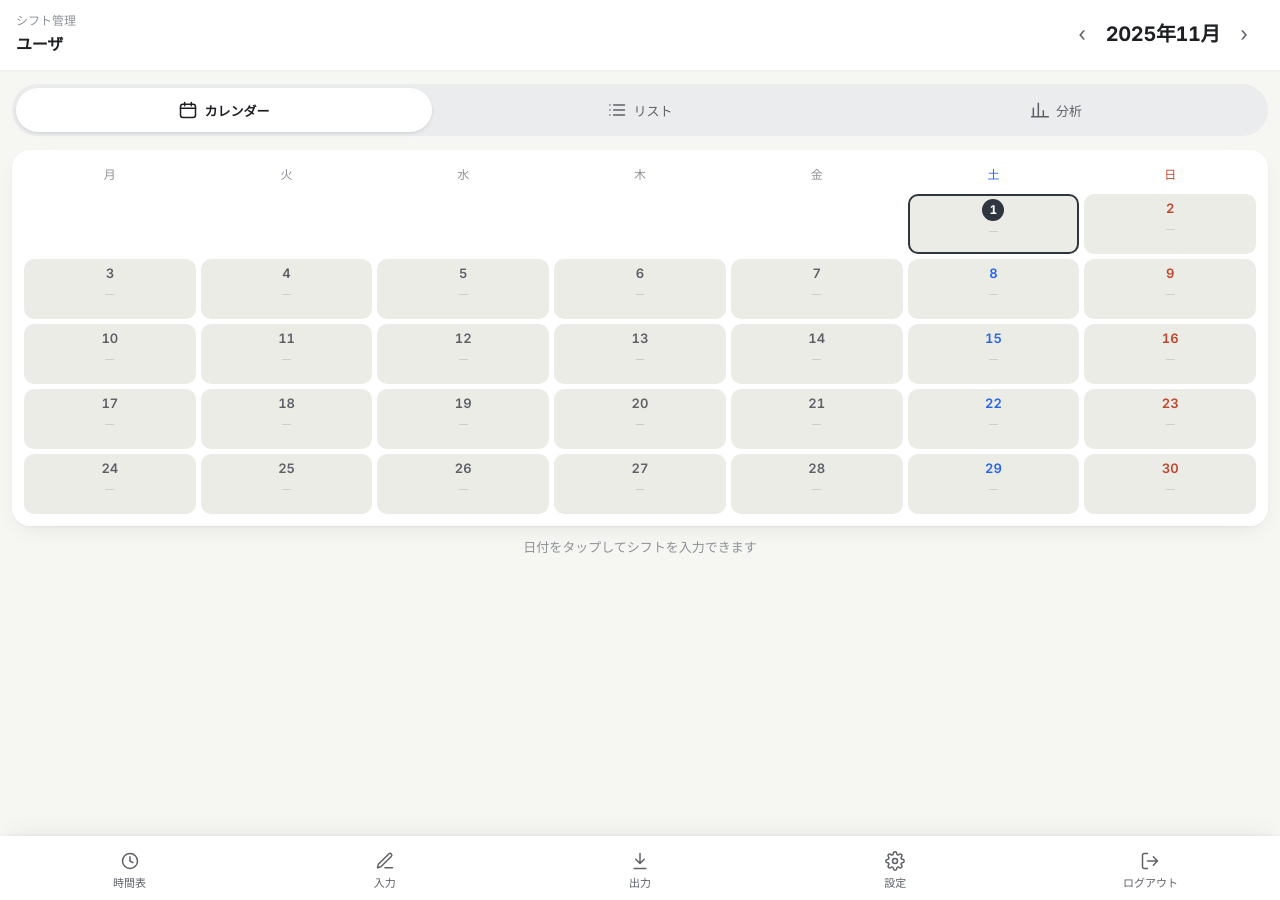
Scenario: 勤務時間表 › 当直の勤務時間が表に残っている
The image size is (1280, 900).
Click the button "時間表": [130, 868] box top-left (2, 840), bottom-right (257, 896)
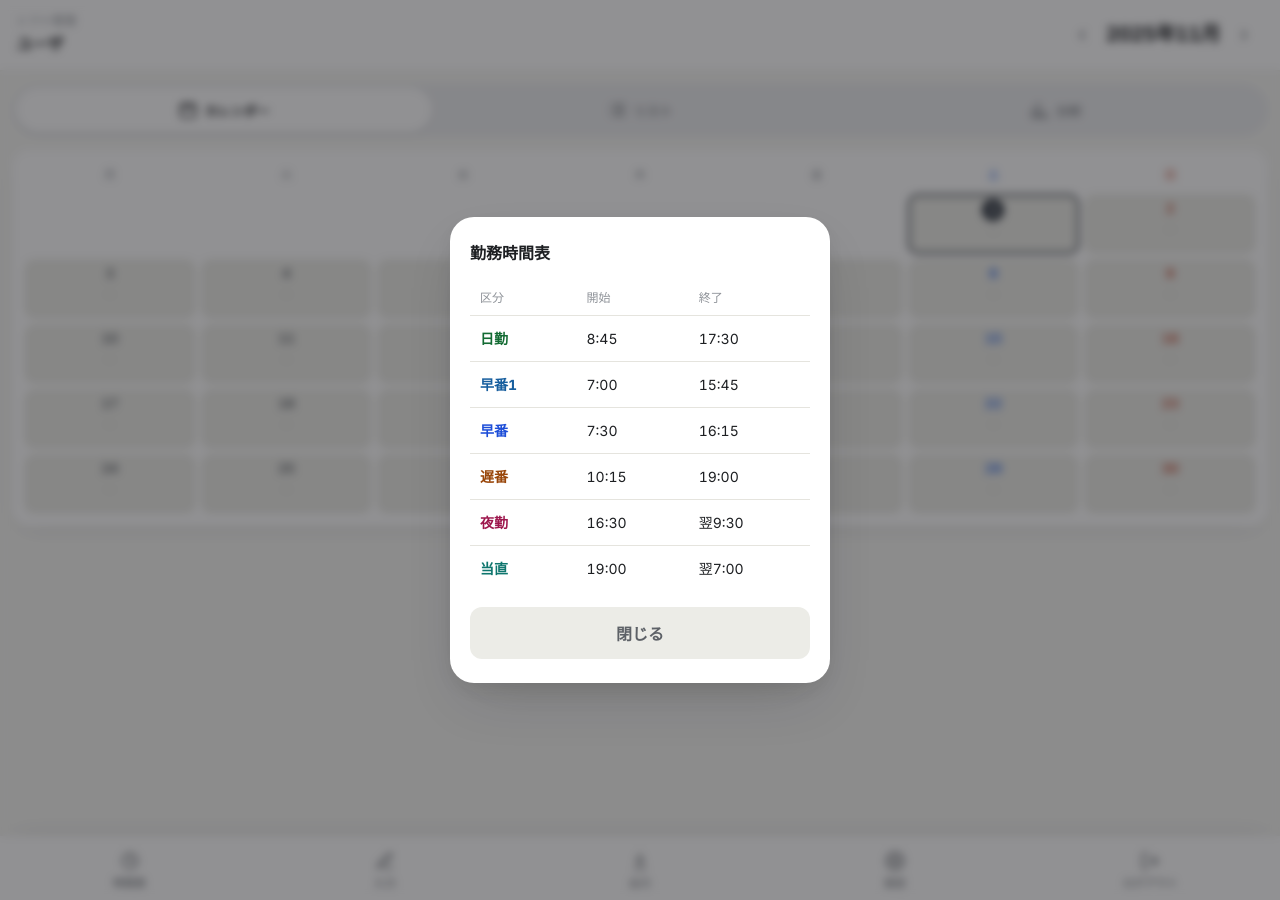
Check: the row "当直 19:00 翌7:00" is shown, box top-left (470, 546), bottom-right (810, 591)
